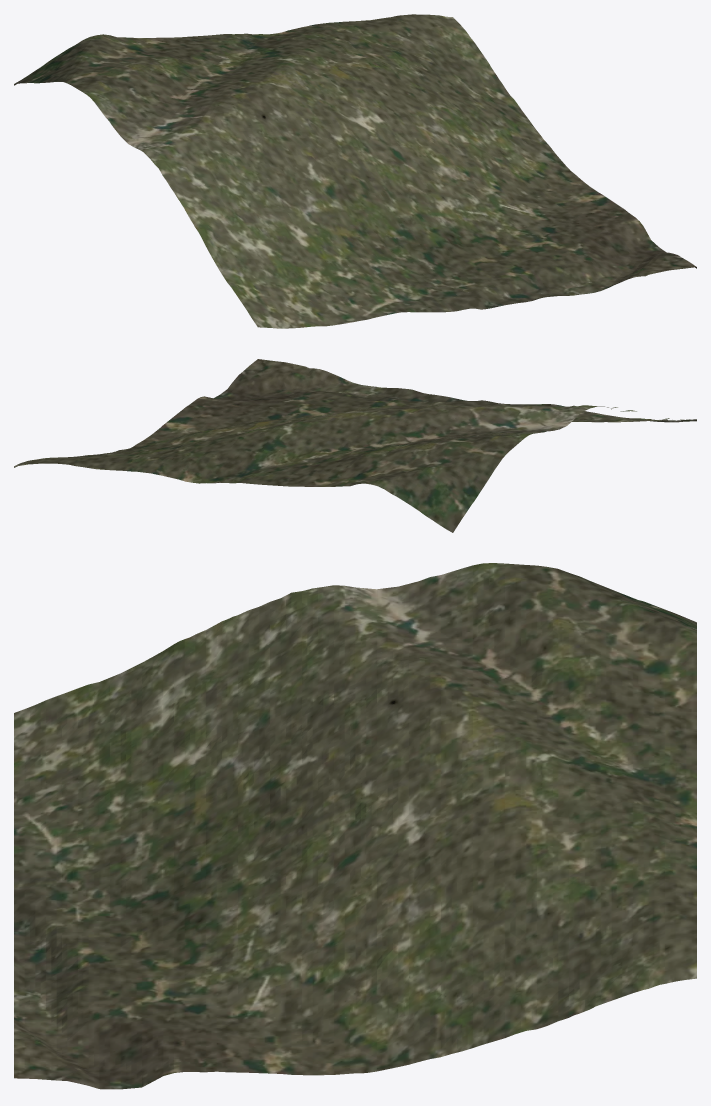
3 views of the same model, one above another, from view 1: azimuth 30°, elevation 25°; view 2: azimuth 150°, elevation 25°; view 3: azimuth 270°, elevation 25° (orthographic). The views are drawn at different scales.
Bounding box in the file's own units: 250 × 89.06 × 241.
Materials: 1 (1 with a texture image).
